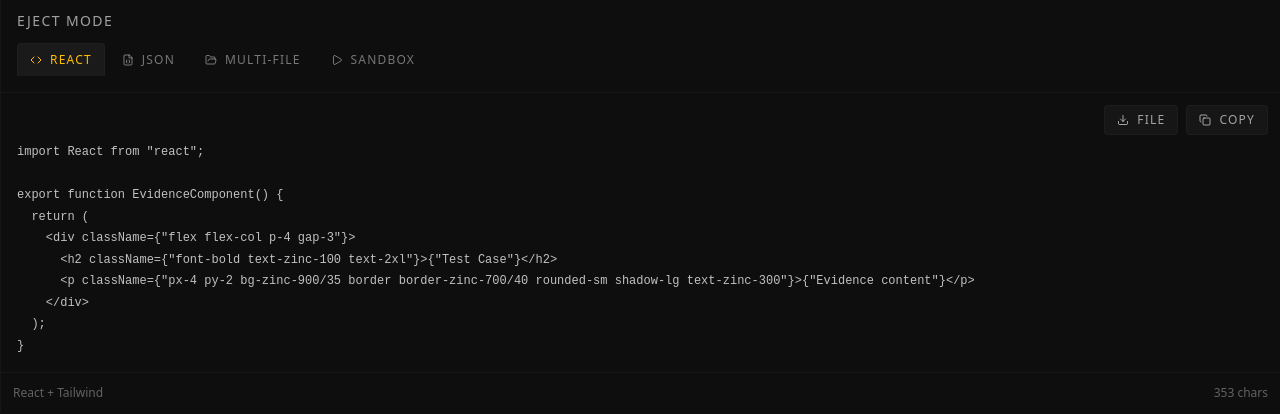
Test: EjectPanel › shows copied state after copying
What coordinates should you click on to do the following:
click the button with aria-label "copy to clipboard"
I would click on:
 (1227, 120)
Its box is [1186,105,1268,135].
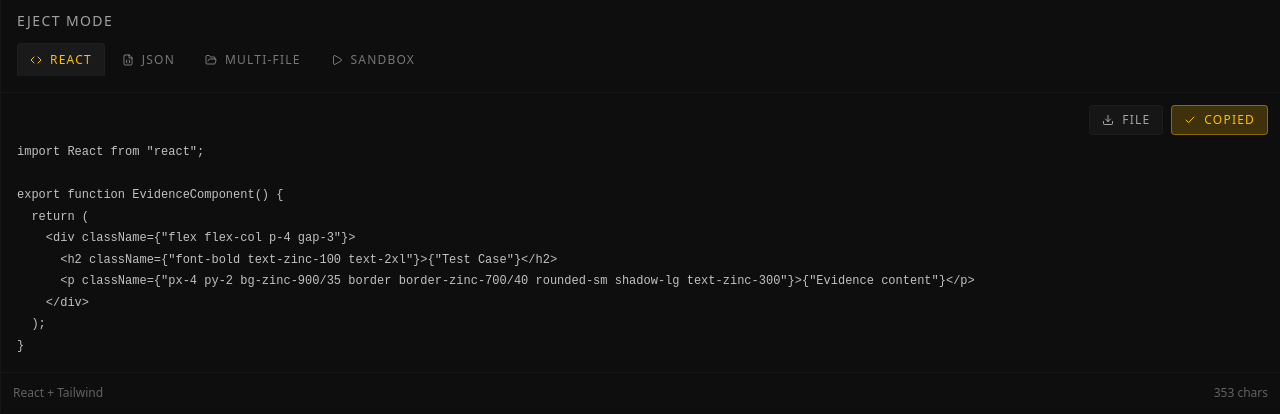
Check: the button "Copied" is shown, box [1171,105,1268,135]
